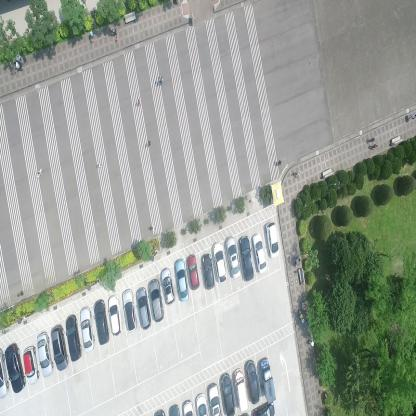car: (5, 342, 26, 392), (50, 323, 68, 371), (65, 313, 82, 362), (93, 298, 110, 346), (36, 331, 54, 376), (238, 233, 254, 282), (259, 357, 276, 403), (122, 287, 138, 334), (22, 345, 40, 385), (245, 359, 261, 404), (233, 367, 249, 412), (251, 232, 268, 274), (224, 236, 241, 278), (174, 257, 189, 303), (148, 279, 164, 322), (107, 293, 122, 338), (136, 285, 151, 329), (80, 306, 94, 352), (160, 267, 176, 306), (221, 372, 235, 416), (213, 239, 226, 283), (266, 220, 280, 260), (202, 251, 215, 291), (0, 348, 10, 398), (186, 254, 200, 289), (208, 382, 222, 415), (196, 392, 208, 415), (254, 403, 274, 415)
